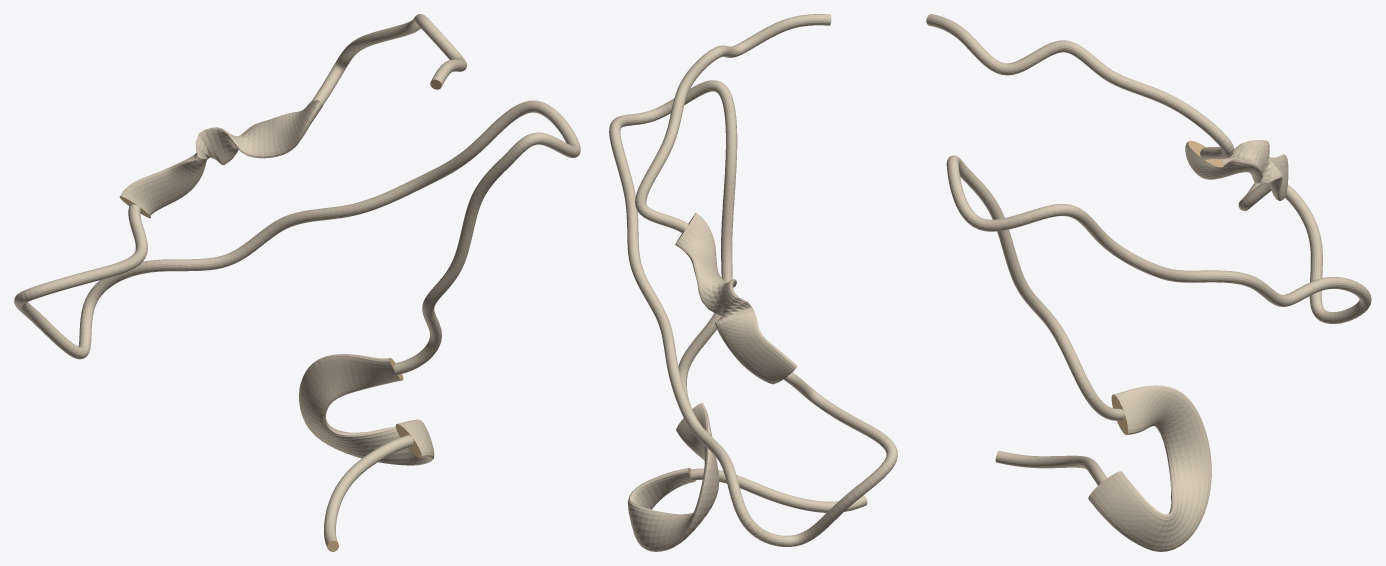
Rendered from fCoilSheetfCoil.dae.
The picture shows the model from 3 angles, left to right: view 1: azimuth 30°, elevation 25°; view 2: azimuth 150°, elevation 25°; view 3: azimuth 270°, elevation 25°; orthographic projection. The views are drawn at different scales.
Parts seen in each view (by area): view 1: Shape_IndexedTriangleStripSet_035; view 2: Shape_IndexedTriangleStripSet_035; view 3: Shape_IndexedTriangleStripSet_035.
Boxes of the visible parts, left/top/right/bottom form: Shape_IndexedTriangleStripSet_035: left=14, top=14, right=580, bottom=551; Shape_IndexedTriangleStripSet_035: left=609, top=14, right=897, bottom=551; Shape_IndexedTriangleStripSet_035: left=926, top=14, right=1371, bottom=551.
Bounding box in the file's own units: 20.12 × 18.37 × 22.66.
